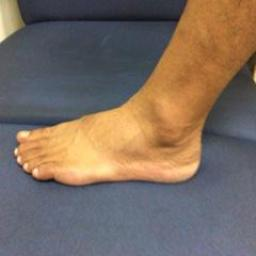Lateral View -Left Foot-: (8, 71, 218, 191)
